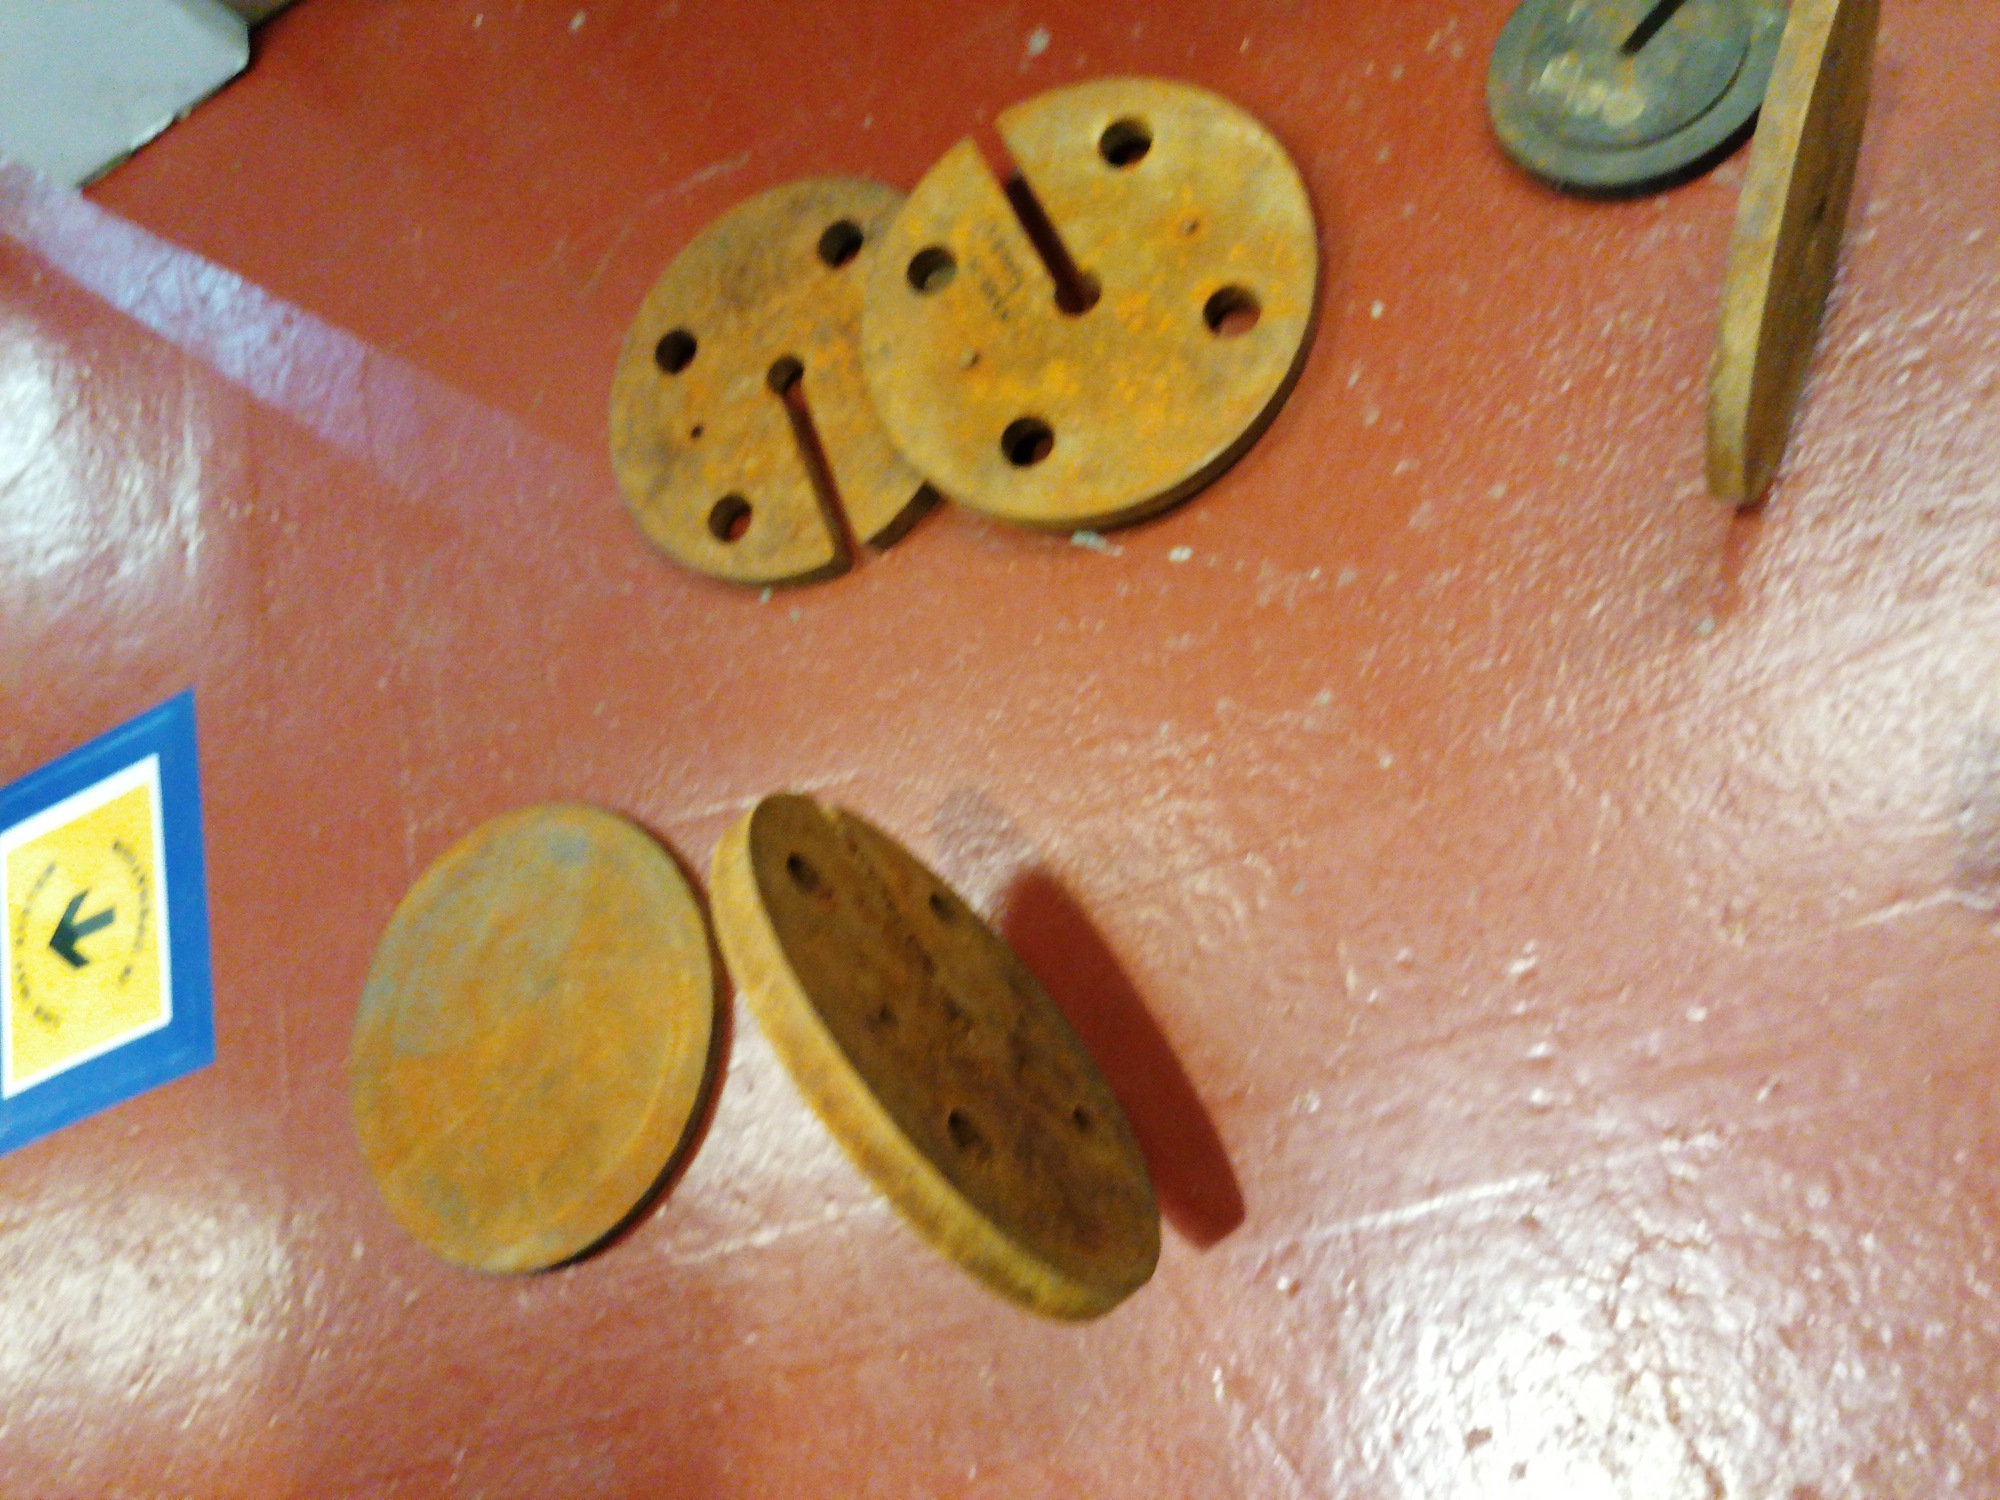flange: (706, 791, 1162, 1328), (850, 72, 1331, 533), (345, 796, 729, 1275), (605, 169, 945, 585), (1702, 0, 1883, 511), (1482, 2, 1792, 203)
